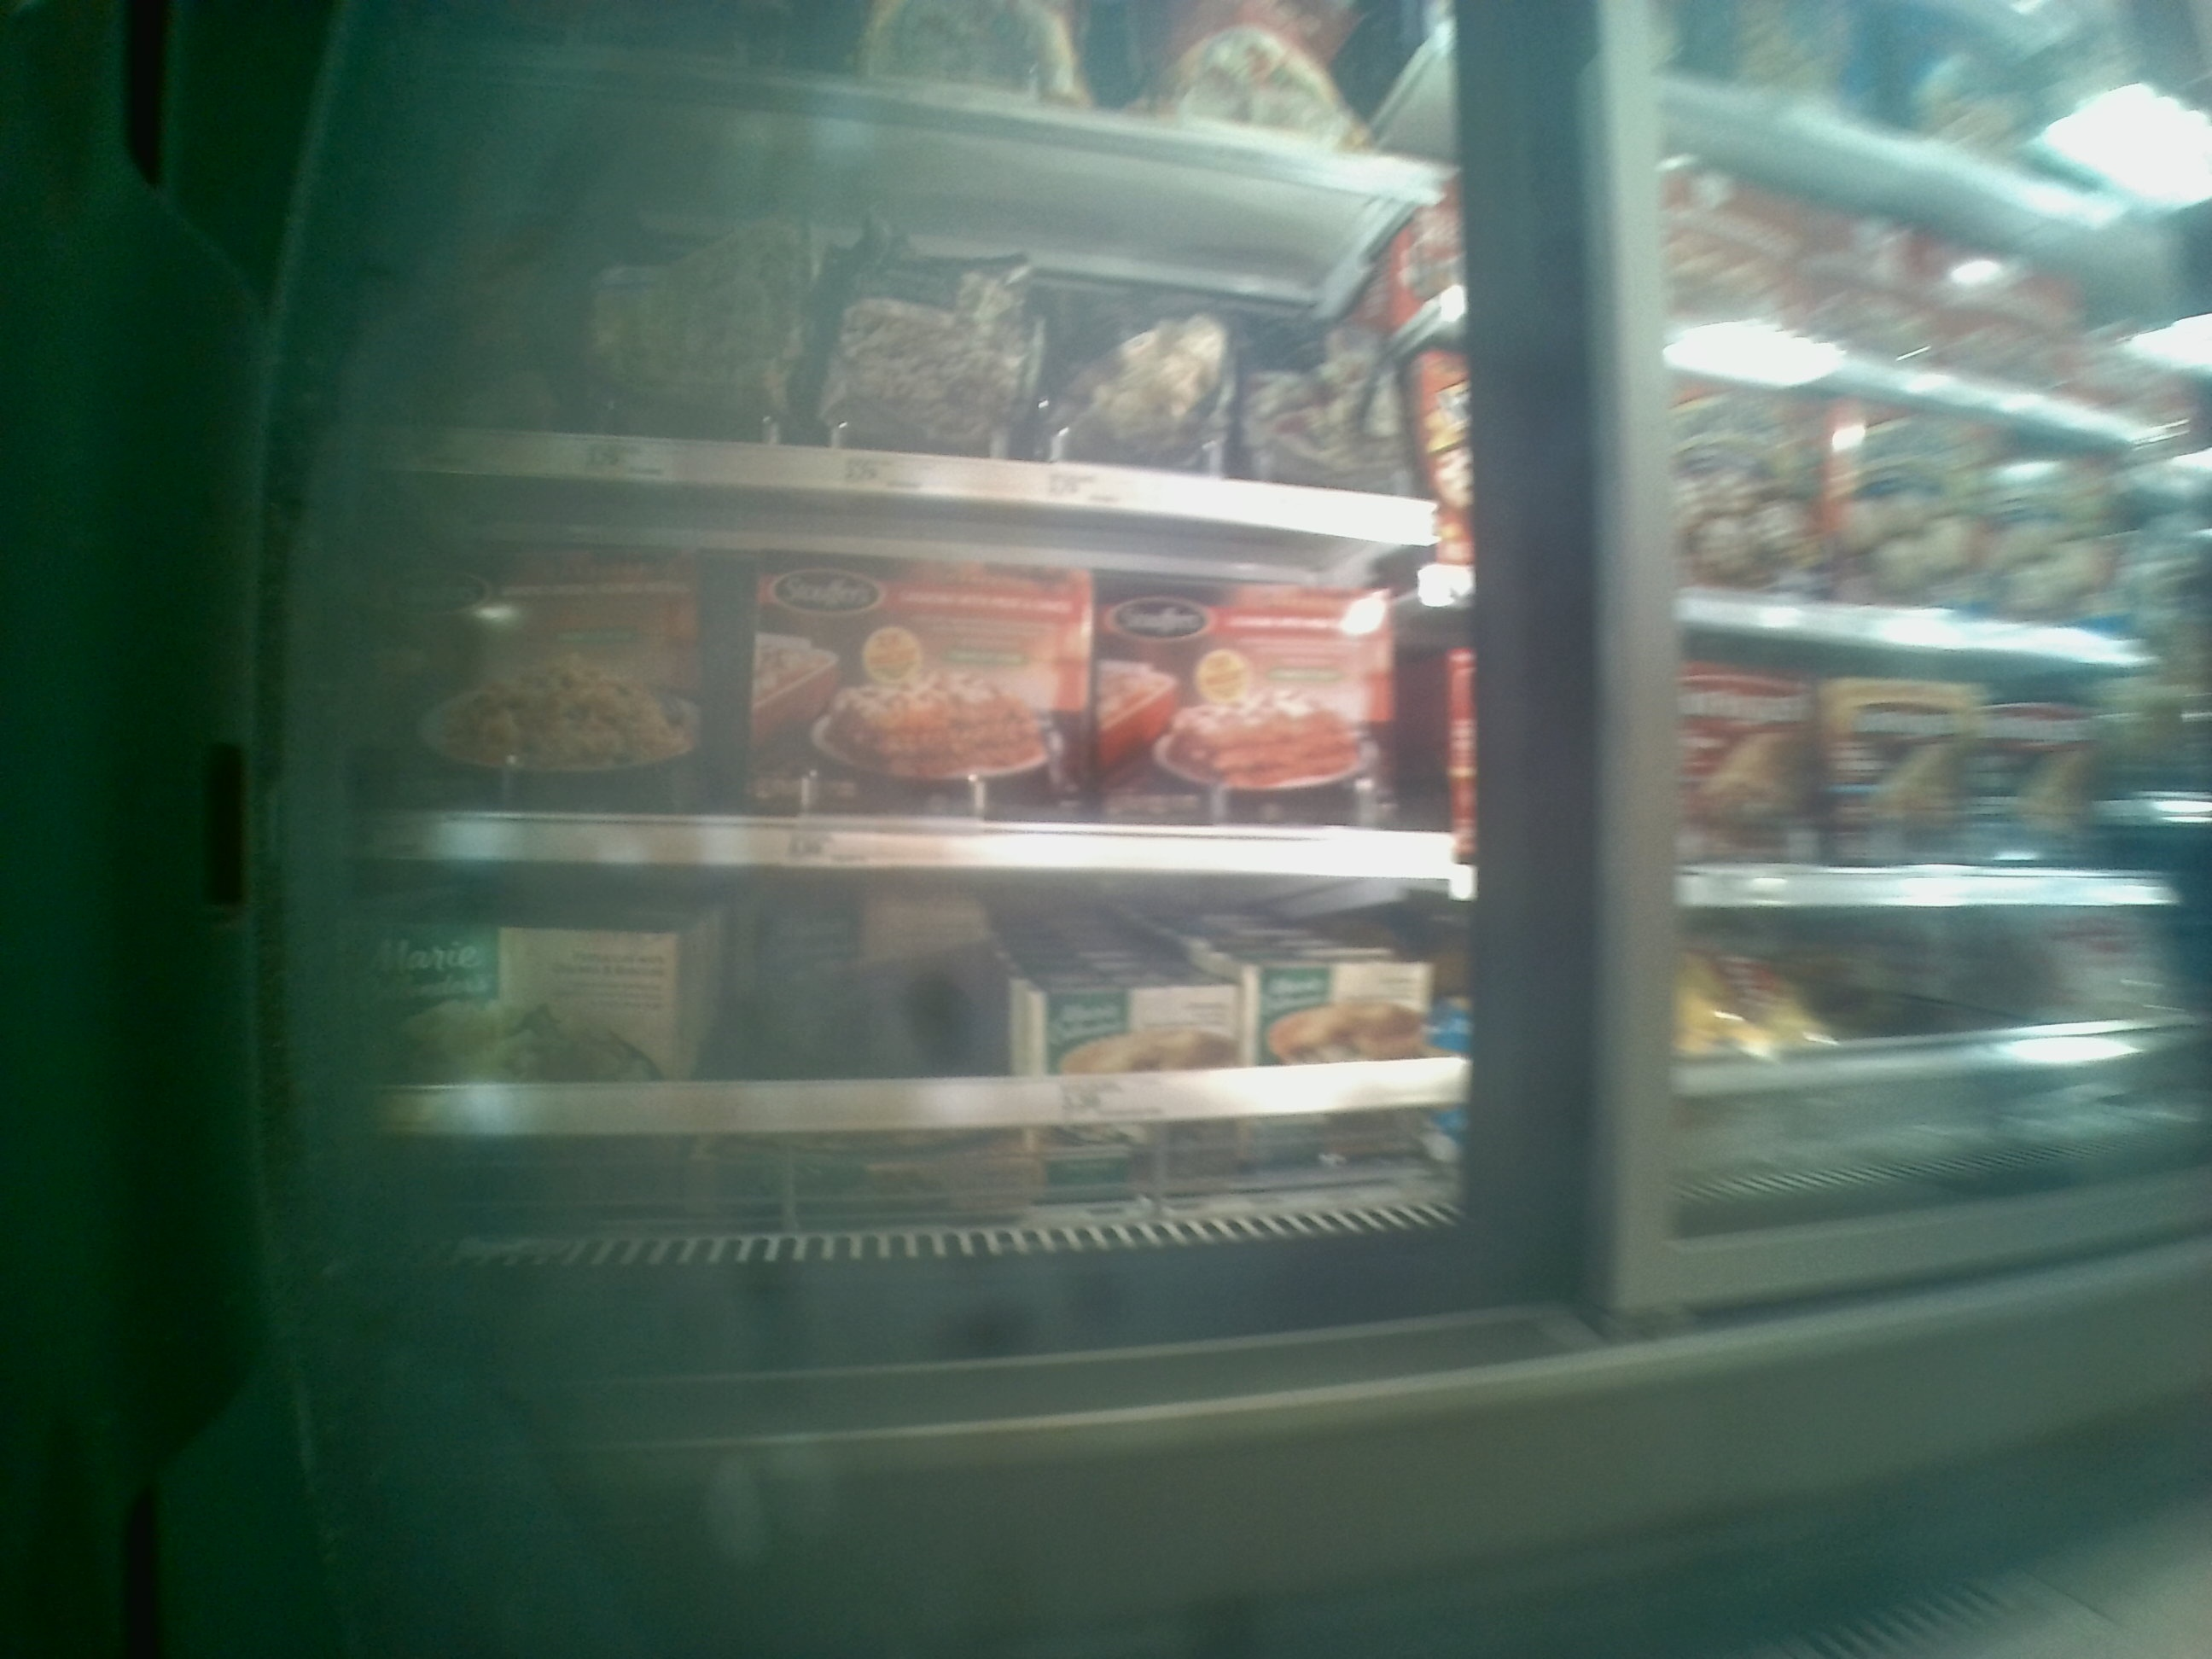frozen-food-shelf: (378, 476, 1468, 887), (378, 866, 1447, 1119)
